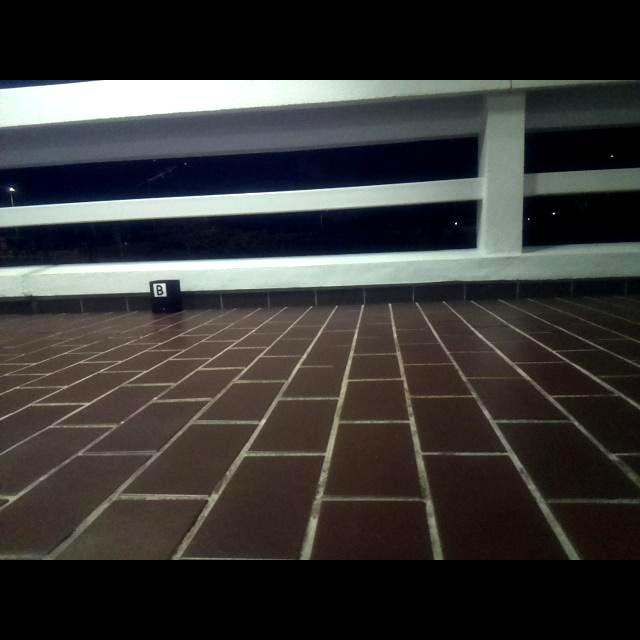B: (155, 285, 163, 296)
